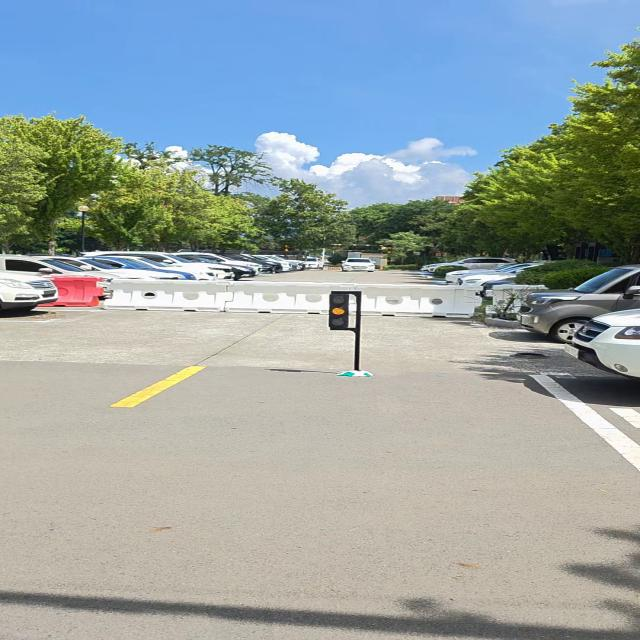yellow: (328, 293, 351, 329)
